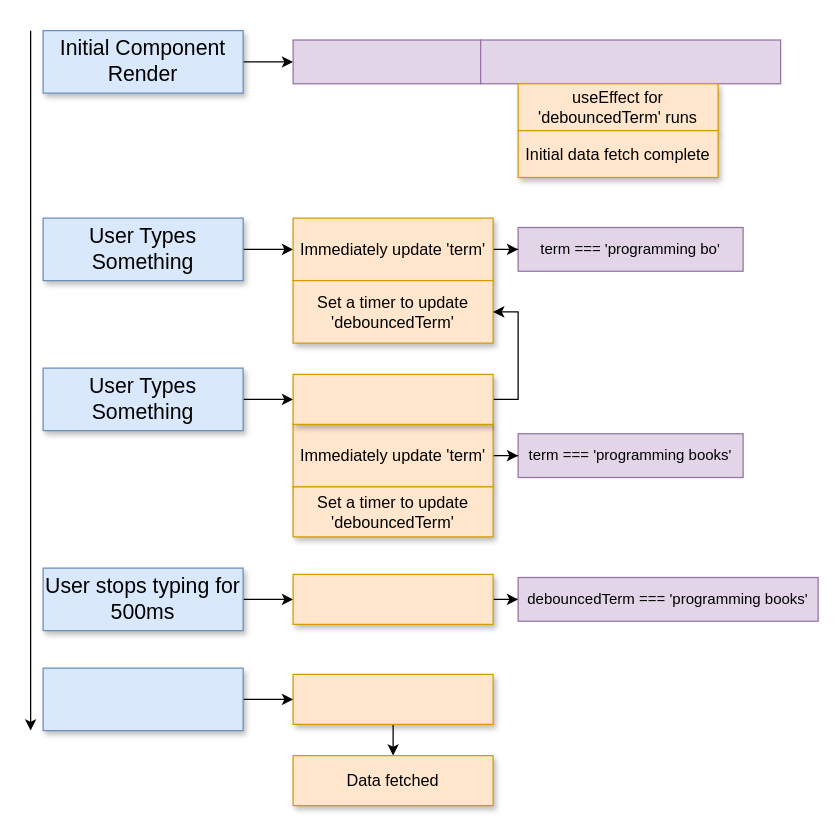
The diagram is 840 pixels wide and 836 high, and some of its shapes have lost their labels. Here are the shapes that lost their labels. From the top down, the centre of each, then its label:
the point at 386,61: term === 'programming'
the point at 630,61: debouncedTerm === 'programming'
the point at 394,400: Cancel previous timer
the point at 394,600: 'debouncedTerm' updated
the point at 144,700: State update causes rerender
the point at 394,700: useEffect watching 'debouncedTerm' runs
